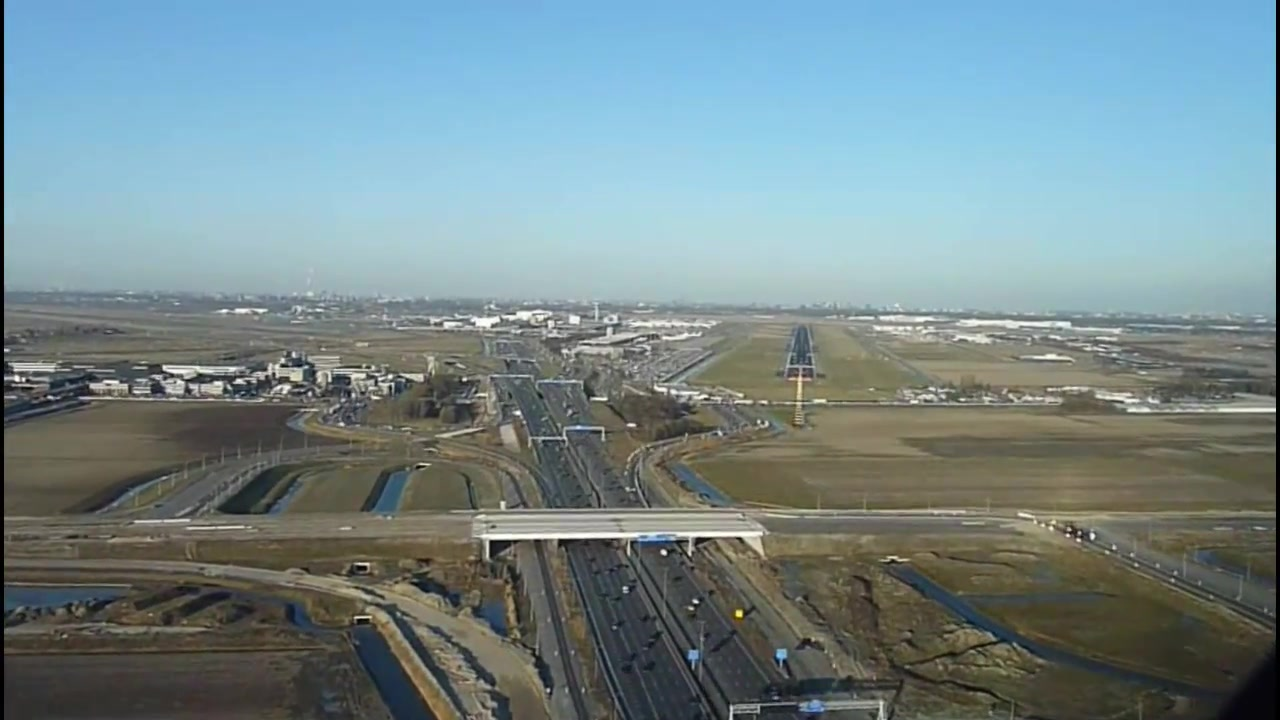runway: (780, 327, 818, 381)
